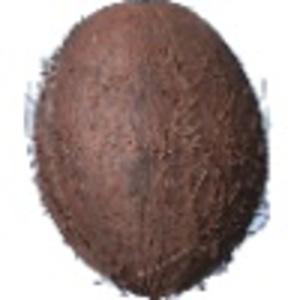coco: (24, 1, 274, 300)
